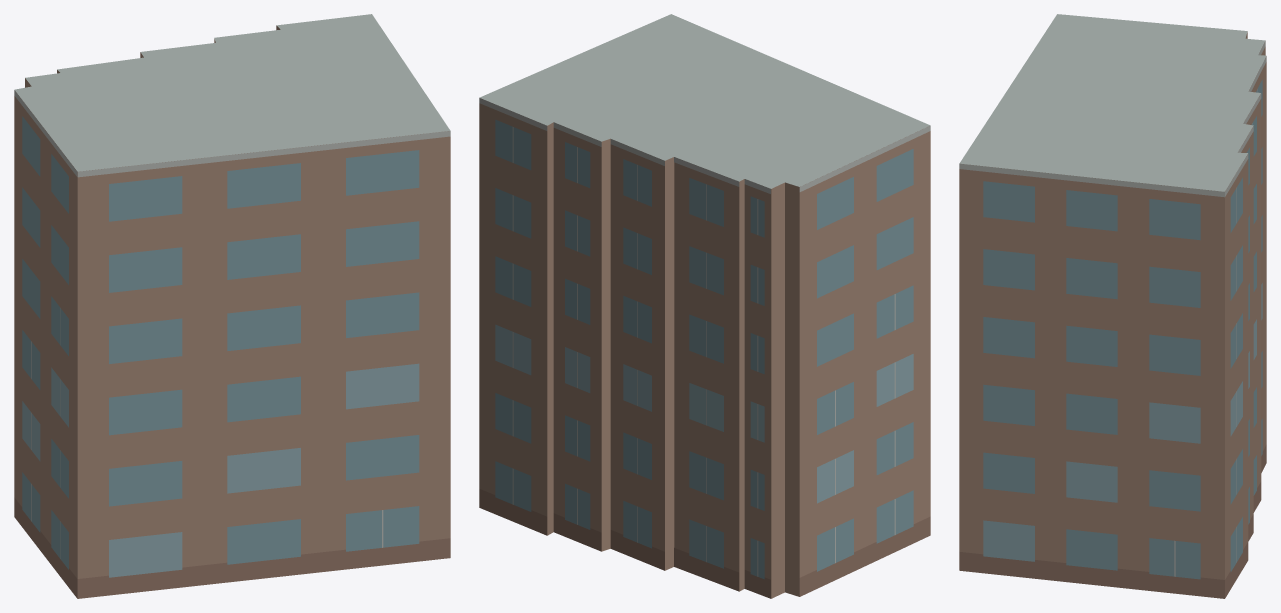
File: survey-upis-32943419.glb
3 renders of one model, left to right at view 1: azimuth 30°, elevation 25°; view 2: azimuth 150°, elevation 25°; view 3: azimuth 270°, elevation 25°, orthographic. The views are drawn at different scales.
Parts seen in each view (by area): view 1: survey-upis-32943419.tmp; view 2: survey-upis-32943419.tmp; view 3: survey-upis-32943419.tmp.
Part boxes in pixels (x1,y1,x2,y2): survey-upis-32943419.tmp: (14,14,450,598); survey-upis-32943419.tmp: (479,14,930,598); survey-upis-32943419.tmp: (959,14,1266,598).
Bounding box in the file's own units: 17.15 × 18.3 × 12.53.
